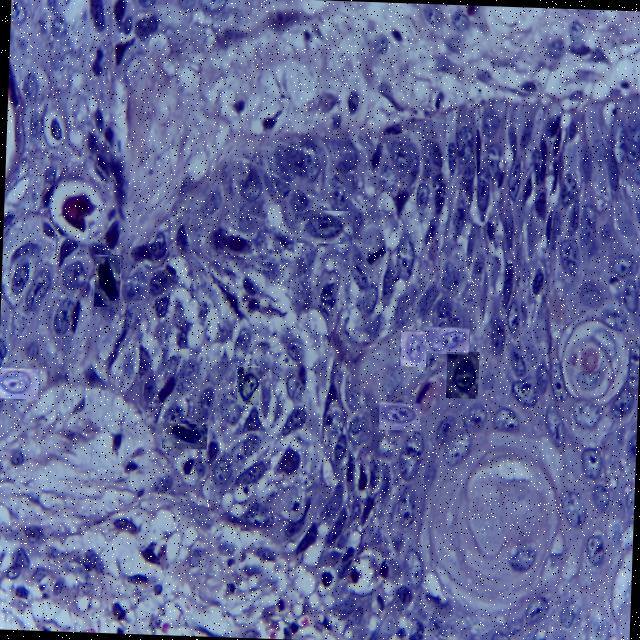Multiple Nucleol: (294, 210, 352, 243), (446, 351, 478, 398), (556, 235, 582, 279), (1, 368, 38, 398), (426, 328, 469, 353), (380, 403, 420, 429), (236, 367, 259, 404), (401, 331, 426, 365)
Nuclear Hyperchromatism: (270, 441, 304, 479), (95, 256, 119, 306), (162, 423, 207, 448)
